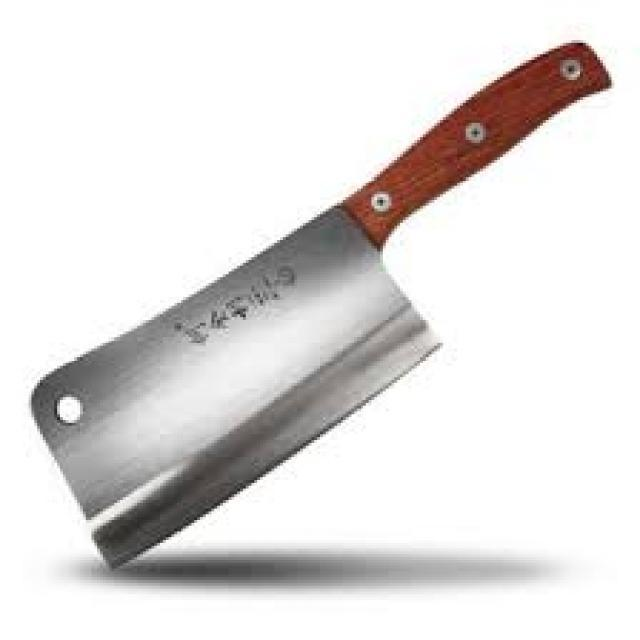Knife: (22, 34, 622, 579)
